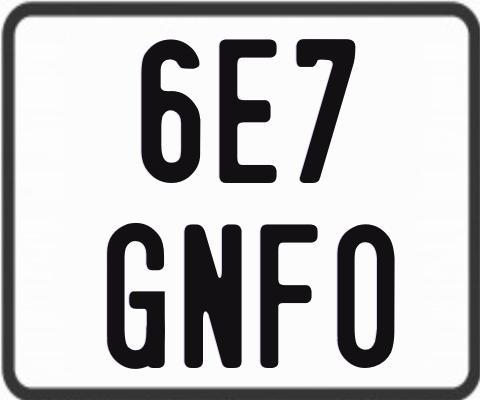0: (334, 224, 392, 372)
6: (140, 39, 204, 188)
7: (295, 37, 355, 181)
E: (216, 36, 279, 182)
F: (258, 224, 319, 368)
G: (107, 222, 169, 372)
N: (183, 222, 241, 367)
